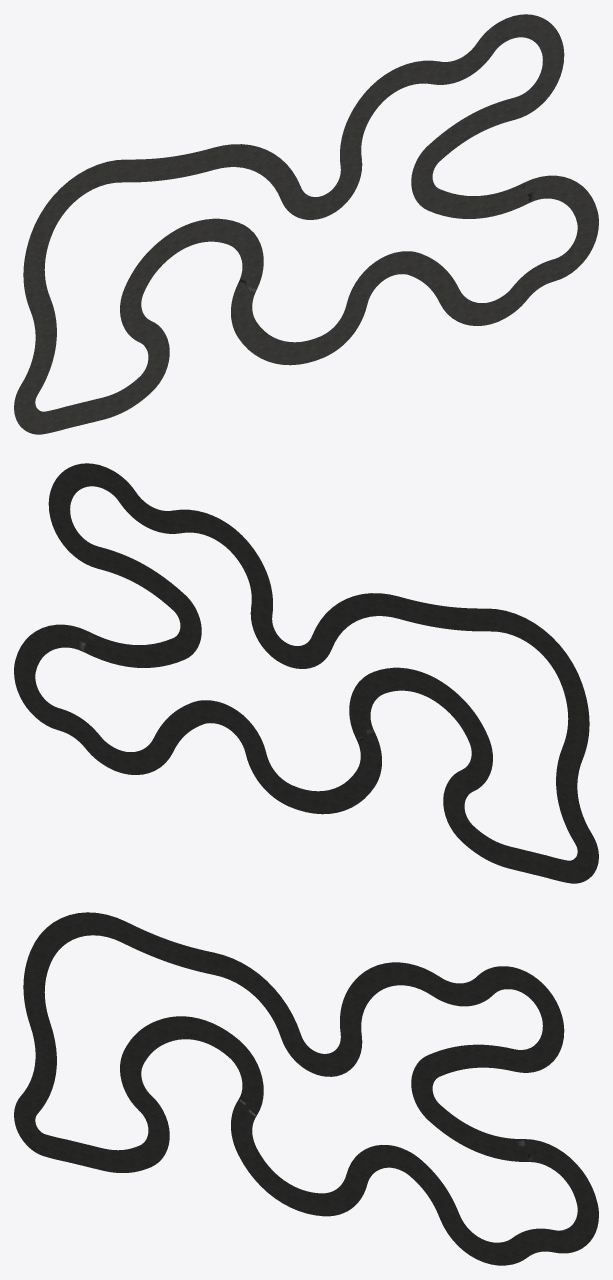
Rendered from track13_road.obj.
The picture shows the model from 3 angles, top to bottom: view 1: azimuth 30°, elevation 25°; view 2: azimuth 150°, elevation 25°; view 3: azimuth 330°, elevation 25°; orthographic projection.
Visible parts, largest first — view 1: road_0_curve_; view 2: road_0_curve_; view 3: road_0_curve_.
Boxes of the visible parts, bbox=[...] form: road_0_curve_: bbox=[14, 14, 598, 434]; road_0_curve_: bbox=[14, 463, 598, 883]; road_0_curve_: bbox=[14, 912, 598, 1265].
Size of the model in its own units: 44.78 by 22.23 by 0.
1 material, 1 textured.
